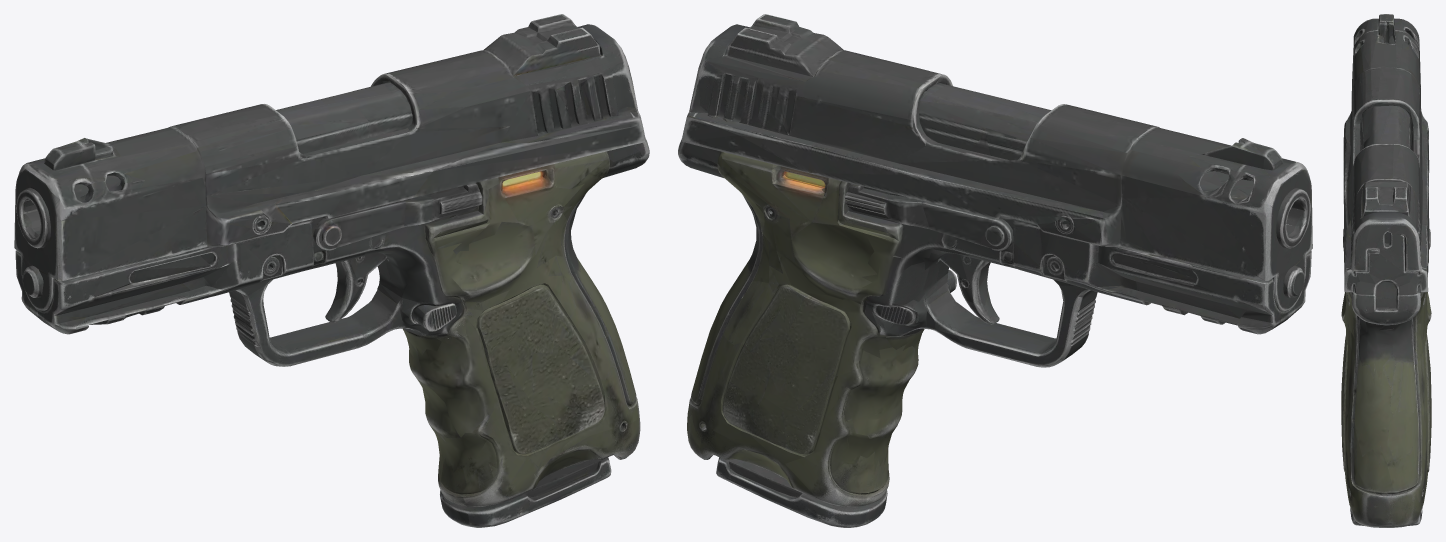
File: sidearm-meshy.glb
3 views of the same model, side by side, from view 1: azimuth 30°, elevation 25°; view 2: azimuth 150°, elevation 25°; view 3: azimuth 270°, elevation 25° (orthographic). The views are drawn at different scales.
Parts seen in each view (by area): view 1: Mesh_0; view 2: Mesh_0; view 3: Mesh_0.
Boxes of the visible parts, x1=… form: Mesh_0: x1=14, y1=14, x2=649, y2=527; Mesh_0: x1=678, y1=14, x2=1312, y2=527; Mesh_0: x1=1341, y1=14, x2=1431, y2=527.
Bounding box in the file's own units: 1.9 × 1.41 × 0.3372.
1 material, 1 textured.
